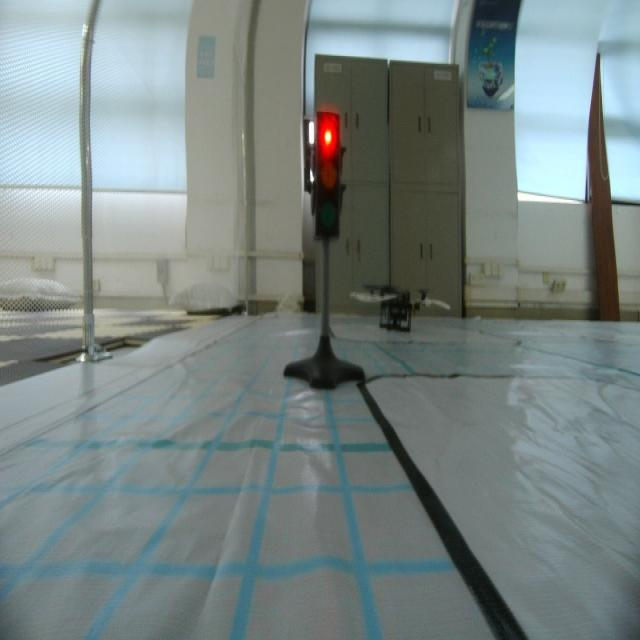red: (308, 109, 348, 251)
